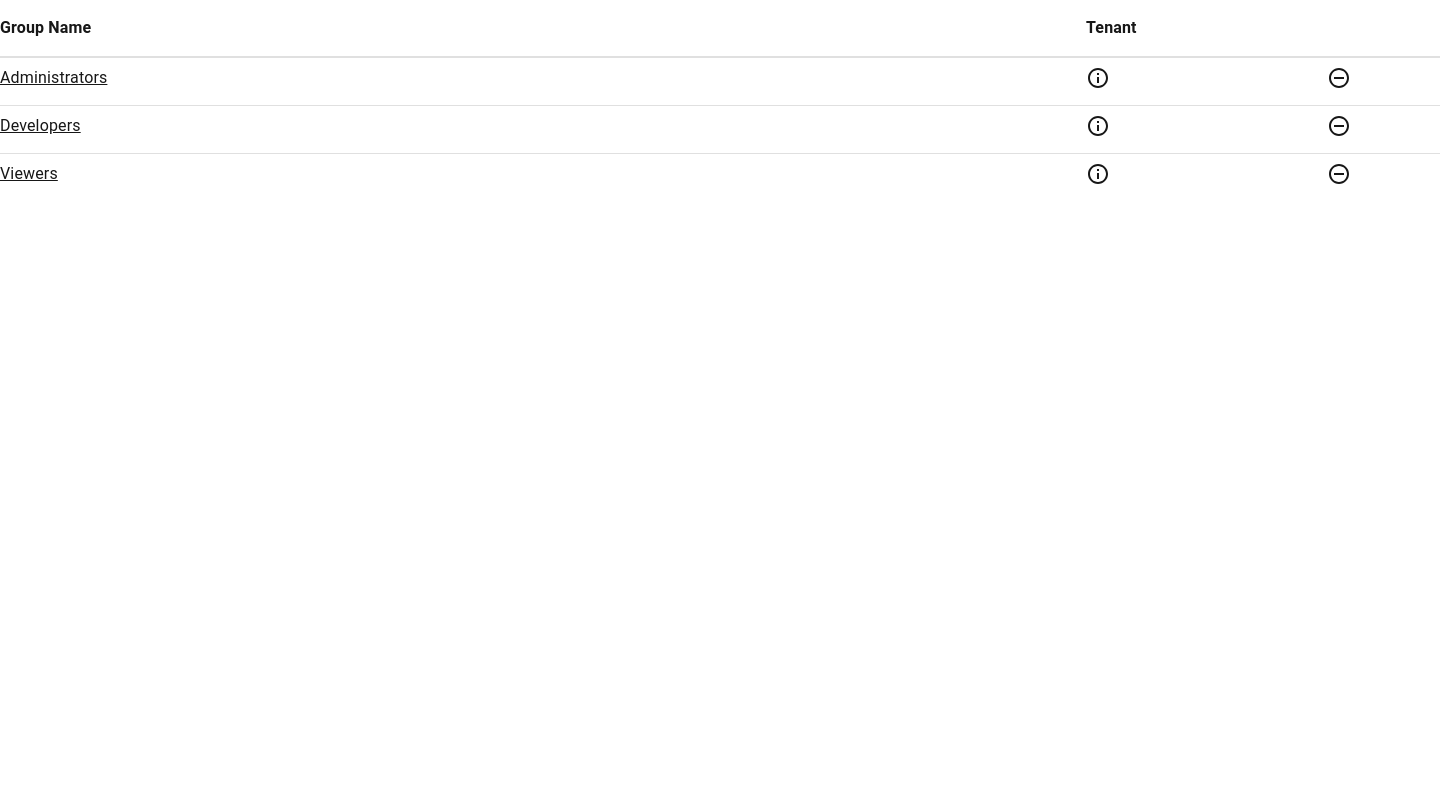
UserAuthorizationGroupConfiguration › Remove Authorization Group Functionality › should open remove confirmation dialog when remove icon is clicked
Expected: the link "Administrators" is shown, [0, 68, 107, 87]
Click the 1st icon with test id "RemoveCircleOutlineIcon".
click(1339, 78)  # box [1327, 66, 1351, 90]
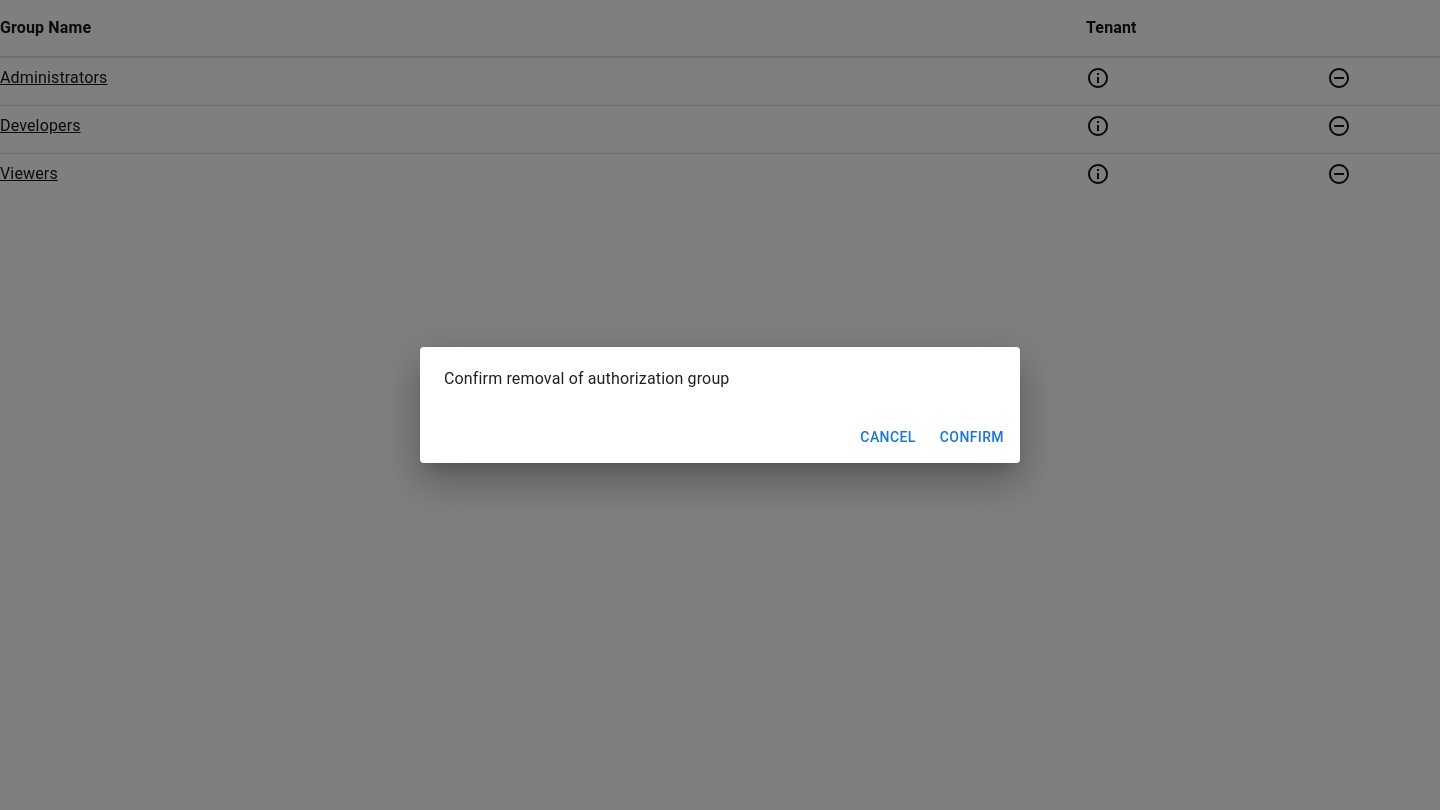
Expected: the text "Confirm removal of authorization group" is shown, [444, 369, 730, 388]
